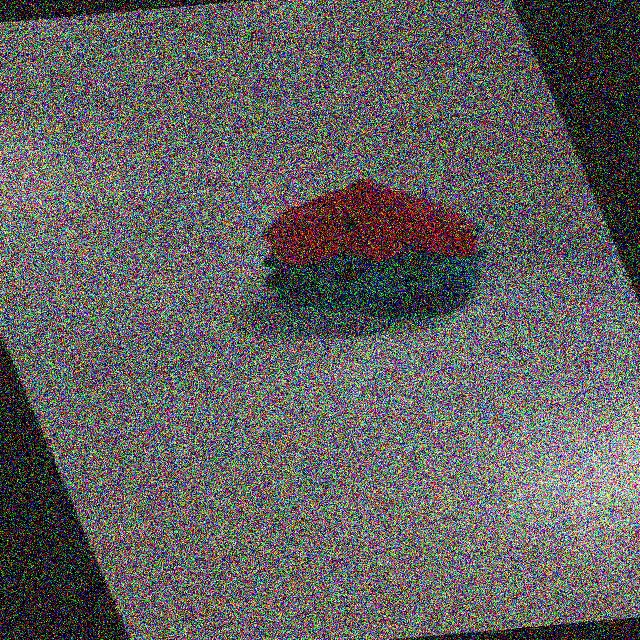House: (194, 162, 520, 334)
